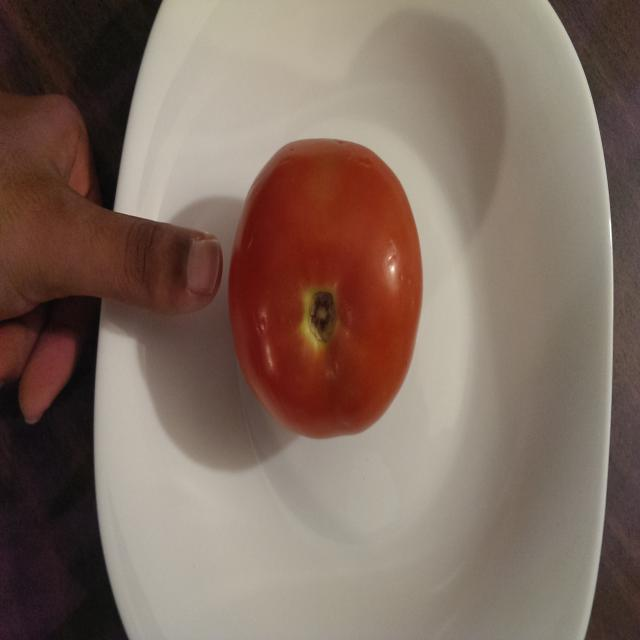tomato: (227, 137, 423, 439)
